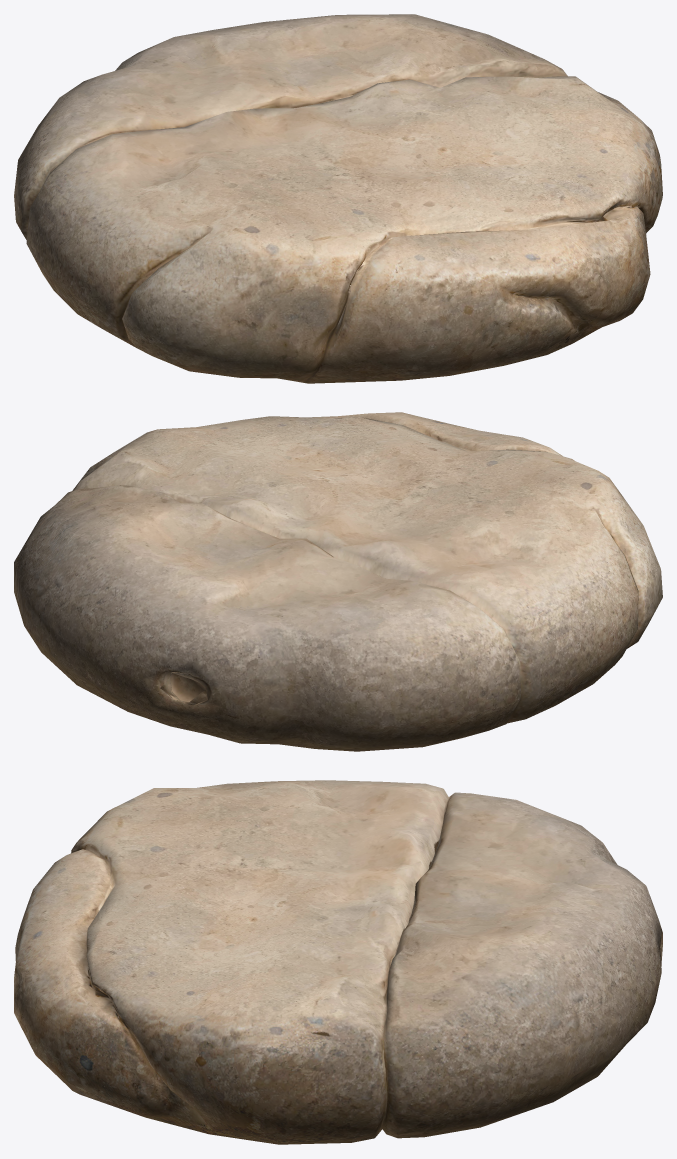
File: garden-stepping-stone.glb
3 renders of one model, top to bottom at view 1: azimuth 30°, elevation 25°; view 2: azimuth 150°, elevation 25°; view 3: azimuth 270°, elevation 25°, orthographic. The views are drawn at different scales.
Parts seen in each view (by area): view 1: tripo_node_04f6ae89-f35b-4165-b26b-dc8383c42449; view 2: tripo_node_04f6ae89-f35b-4165-b26b-dc8383c42449; view 3: tripo_node_04f6ae89-f35b-4165-b26b-dc8383c42449.
Part boxes in pixels (x1,y1,x2,y2): tripo_node_04f6ae89-f35b-4165-b26b-dc8383c42449: (14,14,662,383); tripo_node_04f6ae89-f35b-4165-b26b-dc8383c42449: (14,412,662,751); tripo_node_04f6ae89-f35b-4165-b26b-dc8383c42449: (14,780,662,1144).
Size of the model in its own units: 0.9781 by 0.2852 by 0.9743.
Materials: 1 (1 with a texture image).
